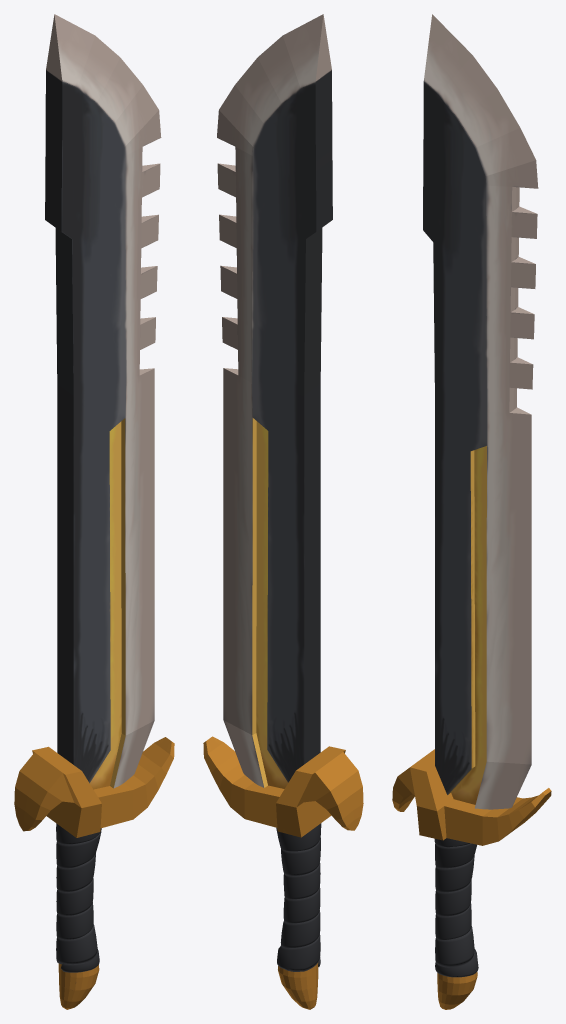
The model's file is weapon 1.fbx.
The picture shows the model from 3 angles, left to right: view 1: azimuth 30°, elevation 25°; view 2: azimuth 150°, elevation 25°; view 3: azimuth 330°, elevation 25°; orthographic projection.
Parts seen in each view (by area): view 1: blade, hand_guard, handwrap, handle; view 2: blade, hand_guard, handwrap, handle; view 3: blade, hand_guard, handwrap, handle.
Part boxes in pixels (x1=…): blade: x1=45, y1=14, x2=161, y2=789; hand_guard: x1=14, y1=737, x2=174, y2=837; handwrap: x1=56, y1=823, x2=101, y2=972; handle: x1=58, y1=963, x2=99, y2=1009; blade: x1=217, y1=14, x2=332, y2=788; hand_guard: x1=203, y1=736, x2=363, y2=837; handwrap: x1=276, y1=823, x2=321, y2=971; handle: x1=278, y1=962, x2=318, y2=1009; blade: x1=423, y1=14, x2=538, y2=809; hand_guard: x1=392, y1=749, x2=551, y2=845; handwrap: x1=434, y1=838, x2=478, y2=977; handle: x1=437, y1=972, x2=477, y2=1009.
Bounding box in the file's own units: 20.24 × 130 × 10.09.
4 materials, 4 textured.
